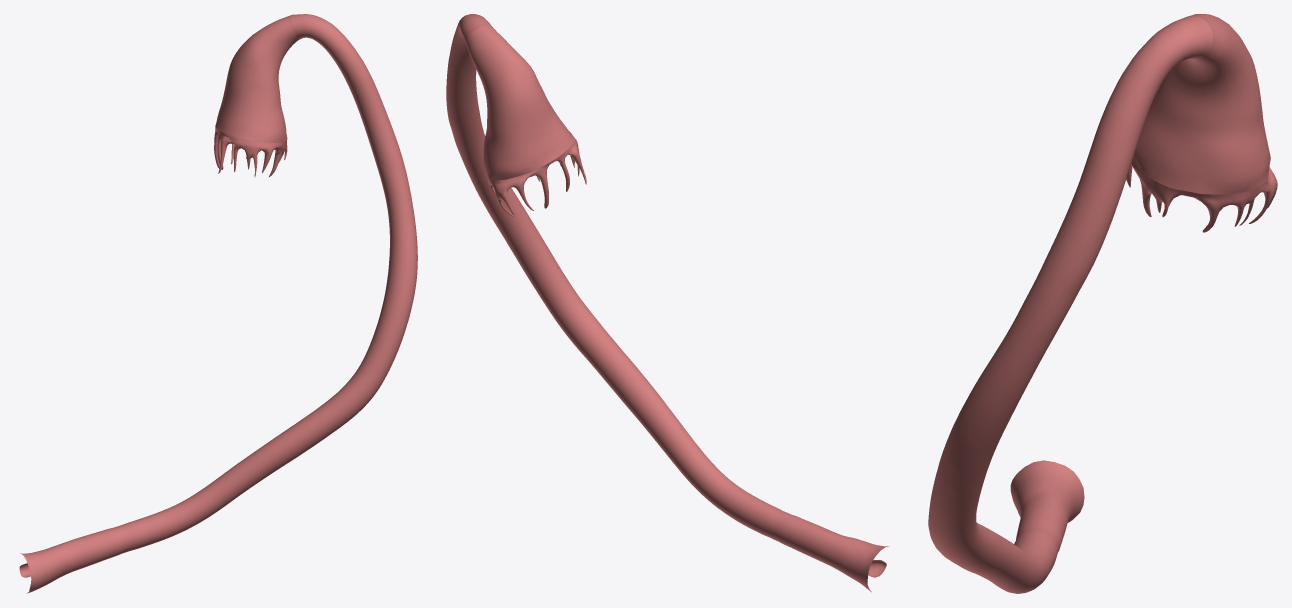
File: 3d-vh-f-fallopian-tube-l.glb
3 views of the same model, side by side, from view 1: azimuth 30°, elevation 25°; view 2: azimuth 150°, elevation 25°; view 3: azimuth 270°, elevation 25° (orthographic). The views are drawn at different scales.
Parts seen in each view (by area): view 1: VH_F_ampulla_of_uterine_tube_L, VH_F_uterine_tube_infundibulum_L, VH_F_isthmus_of_fallopian_tube_L, VH_F_fibria_of_uterine_tube_L; view 2: VH_F_ampulla_of_uterine_tube_L, VH_F_uterine_tube_infundibulum_L, VH_F_isthmus_of_fallopian_tube_L, VH_F_fibria_of_uterine_tube_L; view 3: VH_F_ampulla_of_uterine_tube_L, VH_F_uterine_tube_infundibulum_L, VH_F_isthmus_of_fallopian_tube_L, VH_F_fibria_of_uterine_tube_L.
Part boxes in pixels (x1,y1,x2,y2): VH_F_ampulla_of_uterine_tube_L: (118, 14, 417, 551); VH_F_uterine_tube_infundibulum_L: (215, 15, 299, 142); VH_F_isthmus_of_fallopian_tube_L: (19, 526, 127, 593); VH_F_fibria_of_uterine_tube_L: (214, 127, 287, 176); VH_F_ampulla_of_uterine_tube_L: (446, 14, 785, 539); VH_F_uterine_tube_infundibulum_L: (465, 26, 574, 180); VH_F_isthmus_of_fallopian_tube_L: (771, 512, 889, 592); VH_F_fibria_of_uterine_tube_L: (486, 137, 586, 216); VH_F_ampulla_of_uterine_tube_L: (928, 16, 1213, 593); VH_F_uterine_tube_infundibulum_L: (1133, 14, 1270, 194); VH_F_isthmus_of_fallopian_tube_L: (1010, 460, 1084, 551); VH_F_fibria_of_uterine_tube_L: (1126, 158, 1277, 232).
Size of the model in its own units: 0.0386 by 0.0445 by 0.0185.
